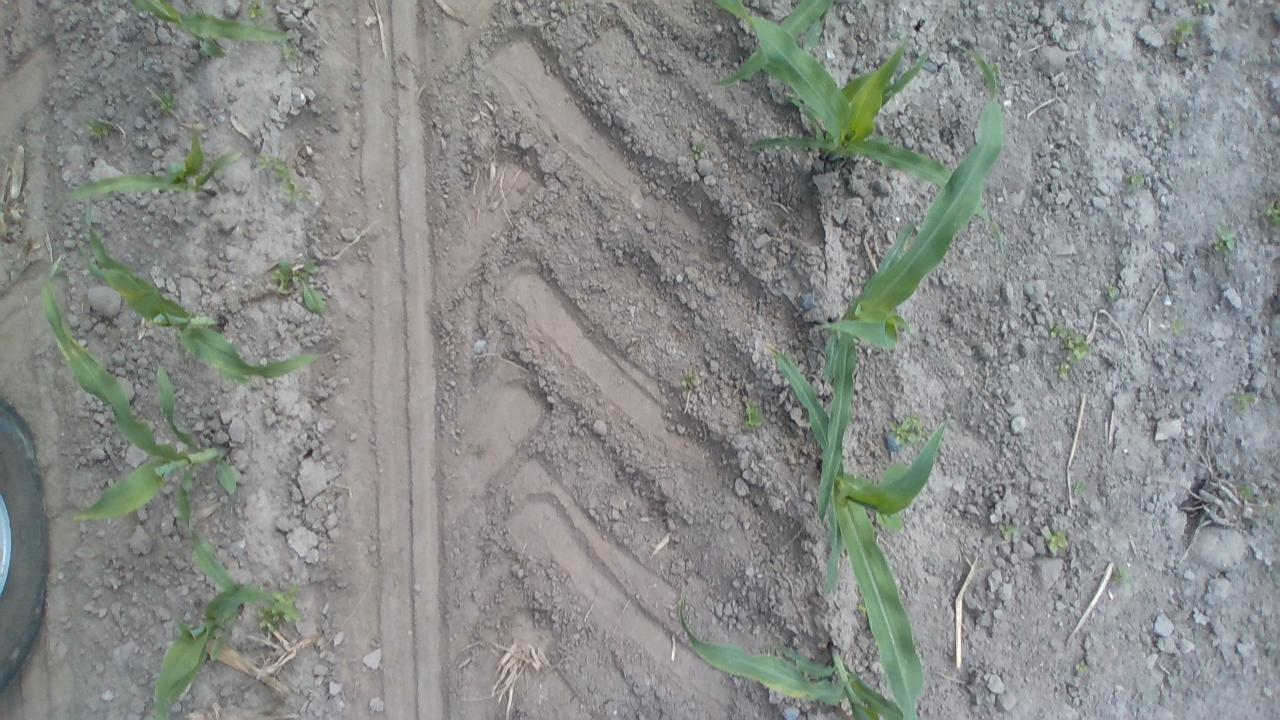Maize: (794, 42, 1020, 524), (760, 338, 952, 713), (37, 243, 249, 572), (709, 1, 998, 232), (68, 210, 324, 388), (670, 592, 930, 718), (142, 531, 306, 719), (42, 119, 248, 208), (716, 0, 834, 96), (123, 0, 300, 54)
Weeds: (266, 254, 328, 318), (1046, 319, 1098, 384), (252, 152, 312, 208), (255, 587, 305, 636), (881, 413, 933, 450), (1234, 480, 1274, 514), (78, 114, 115, 148), (273, 33, 304, 73), (1208, 222, 1242, 258), (1043, 525, 1075, 560), (147, 85, 180, 117), (1230, 385, 1260, 416), (992, 514, 1022, 543), (737, 400, 766, 430), (1124, 168, 1156, 195), (1106, 564, 1135, 592), (680, 368, 706, 397), (1068, 658, 1096, 684), (1170, 20, 1198, 44), (690, 136, 711, 168), (238, 2, 270, 23), (1258, 198, 1278, 230), (1068, 476, 1090, 501), (1166, 313, 1188, 338), (1104, 282, 1126, 306), (1190, 0, 1216, 15), (1162, 115, 1182, 134)
